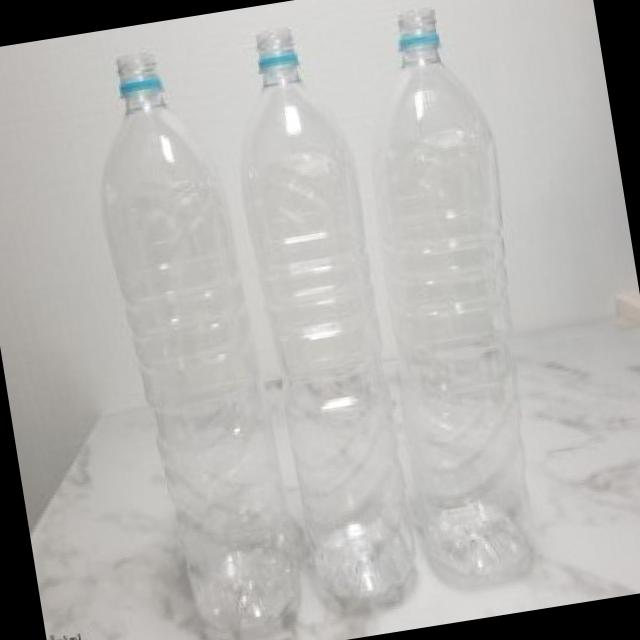plastic_bottle: (78, 40, 313, 640), (343, 3, 550, 590), (226, 21, 424, 612)
